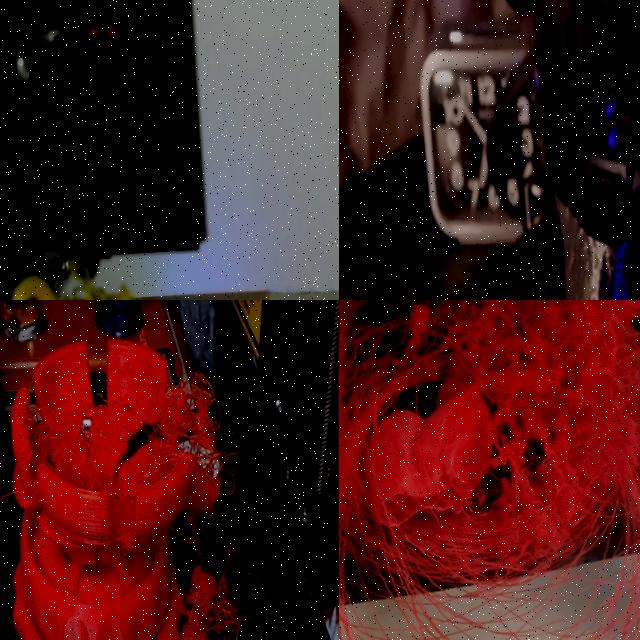spaghetti: (339, 300, 640, 640), (3, 256, 140, 300)
